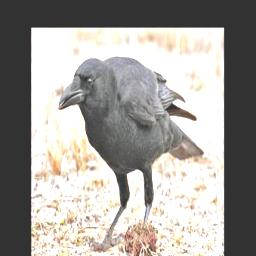Crow: (58, 55, 205, 251)
